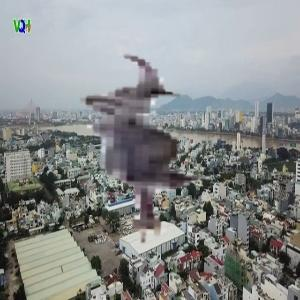drone: (42, 45, 266, 269)
